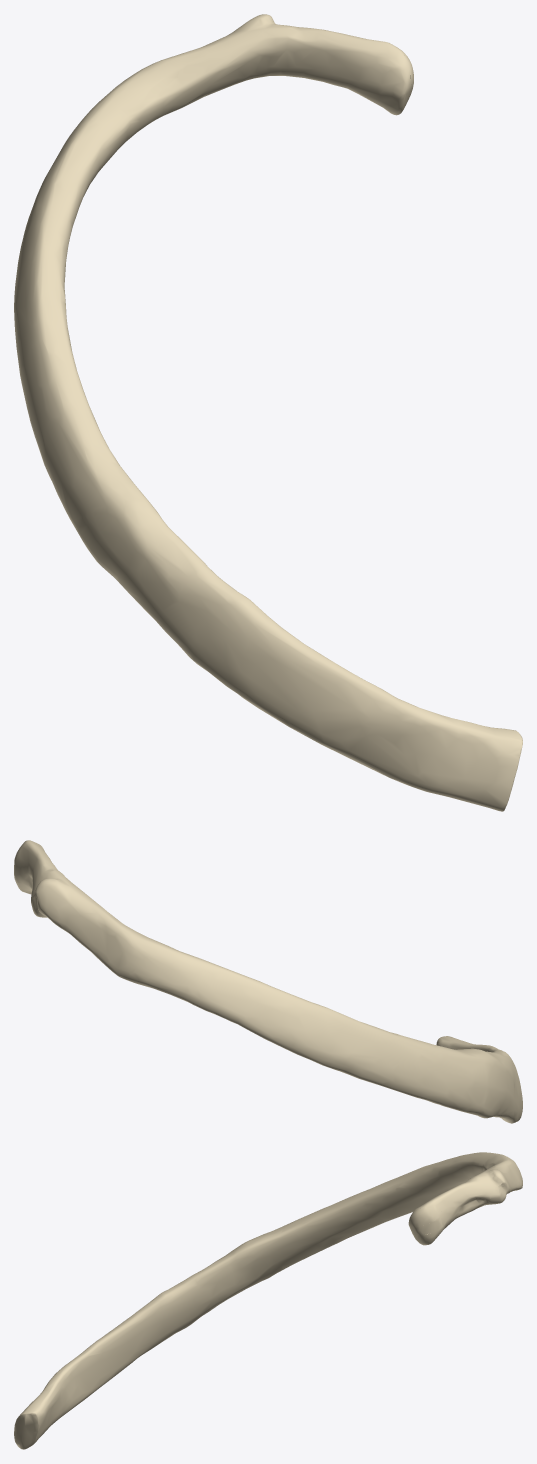
The model's file is esqueleto-fourth-rib-r.glb.
3 views of the same model, one above another, from view 1: azimuth 30°, elevation 25°; view 2: azimuth 150°, elevation 25°; view 3: azimuth 270°, elevation 25° (orthographic). The views are drawn at different scales.
Parts seen in each view (by area): view 1: Fourth rib.r; view 2: Fourth rib.r; view 3: Fourth rib.r.
Boxes of the visible parts, x1=… form: Fourth rib.r: x1=14, y1=14, x2=522, y2=811; Fourth rib.r: x1=14, y1=840, x2=522, y2=1123; Fourth rib.r: x1=14, y1=1152, x2=522, y2=1449.
Bounding box in the file's own units: 0.1096 × 0.1171 × 0.1698.
